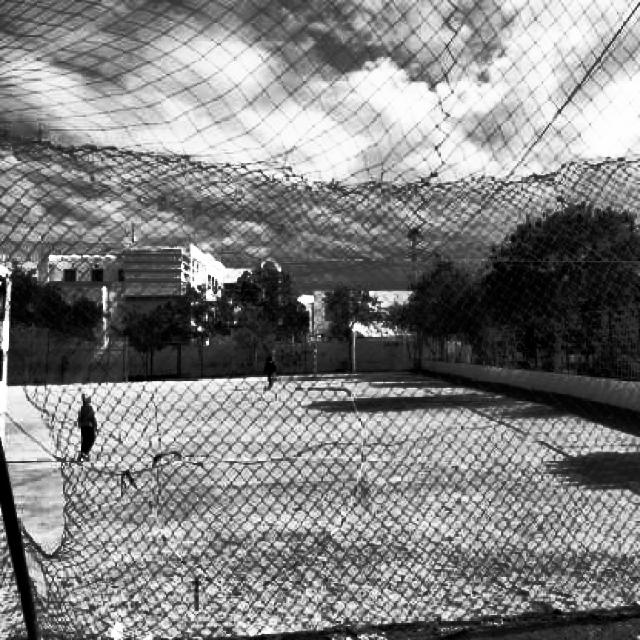anomaly-fence: (0, 230, 80, 640)
